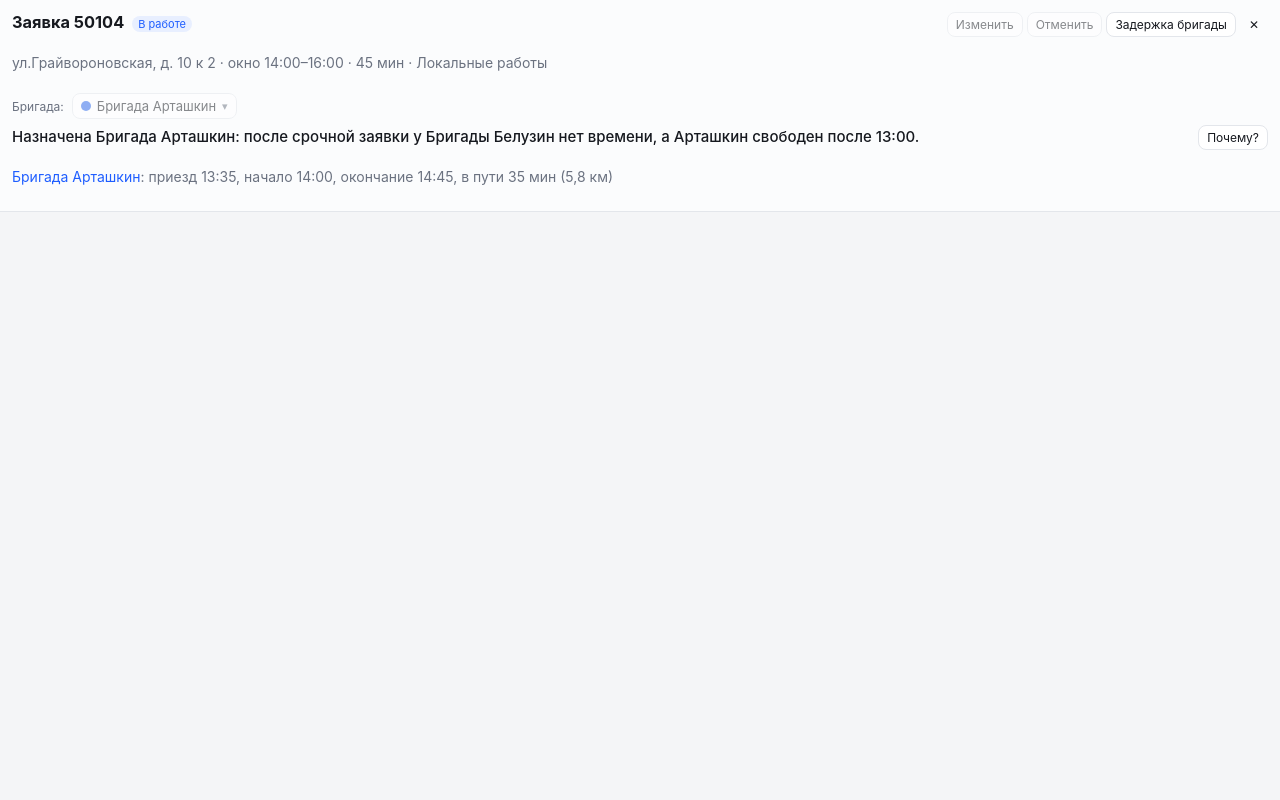
ExplanationCard › opens the delay dialog with the brigade of the visit and the clock time, while the work is in progress
Check: the text "Назначена Бригада Арташкин" is shown, box x1=12 y1=128 x2=919 y2=146
Click the button "Задержка бригады" at (1171, 24), box x1=1106 y1=12 x2=1236 y2=37
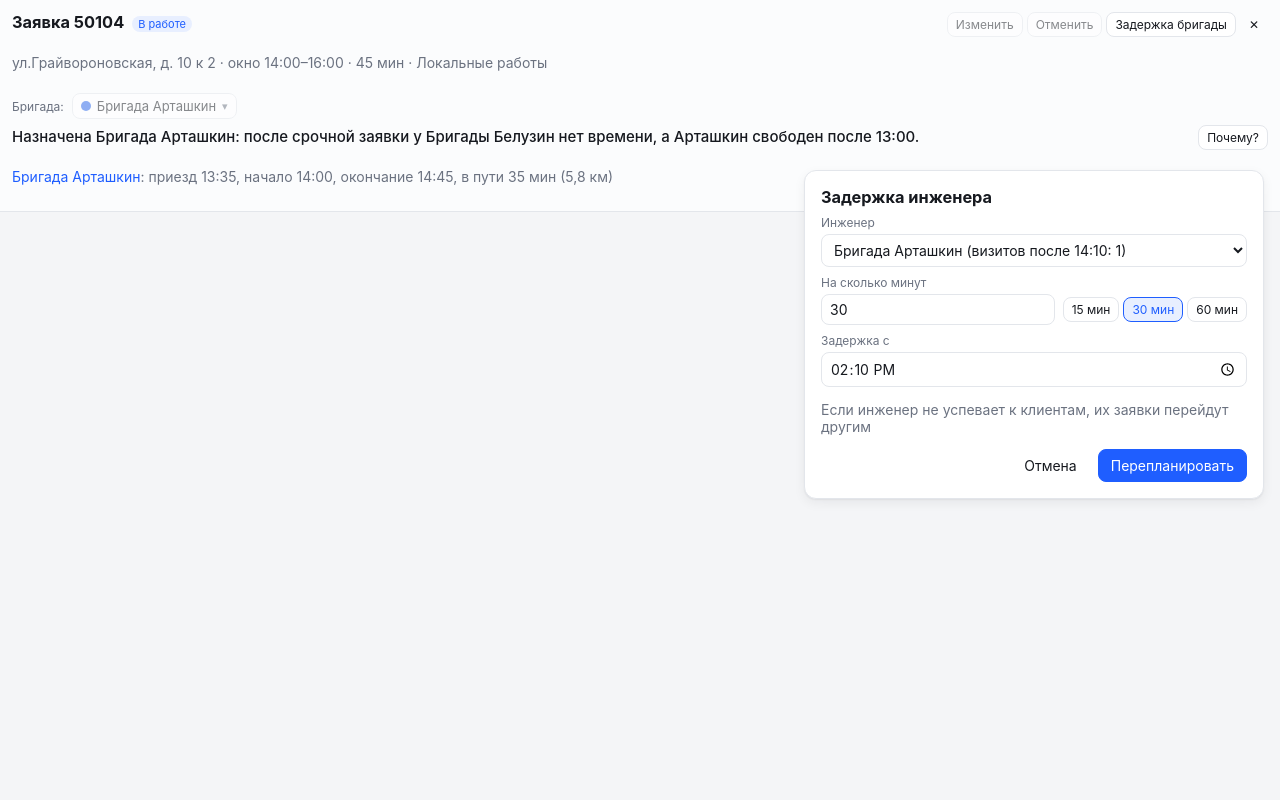
Check: the dialog "Задержка инженера" is shown, box x1=804 y1=170 x2=1264 y2=499
